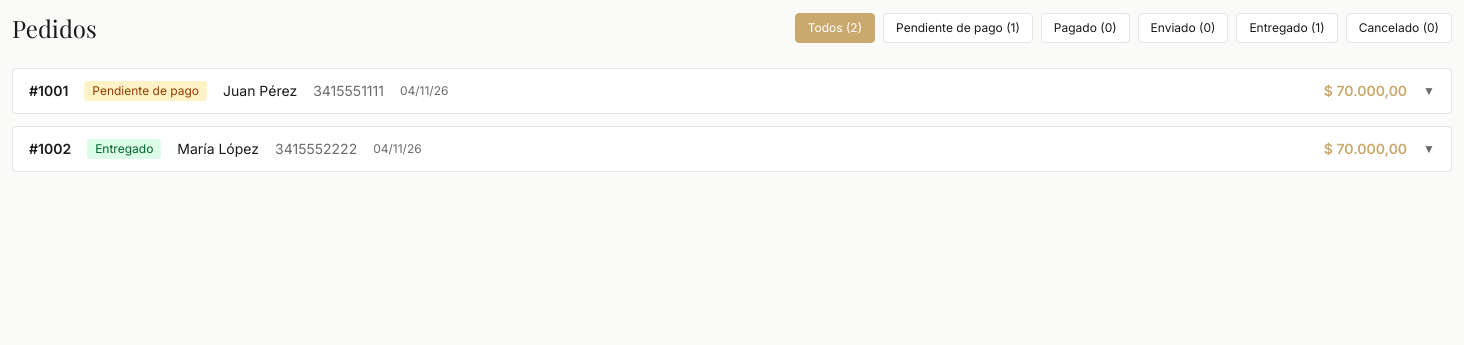
it: AdminOrders › muestra las acciones disponibles al expandir un pedido
Click the text "#1001": click(49, 91) [29,81,68,101]
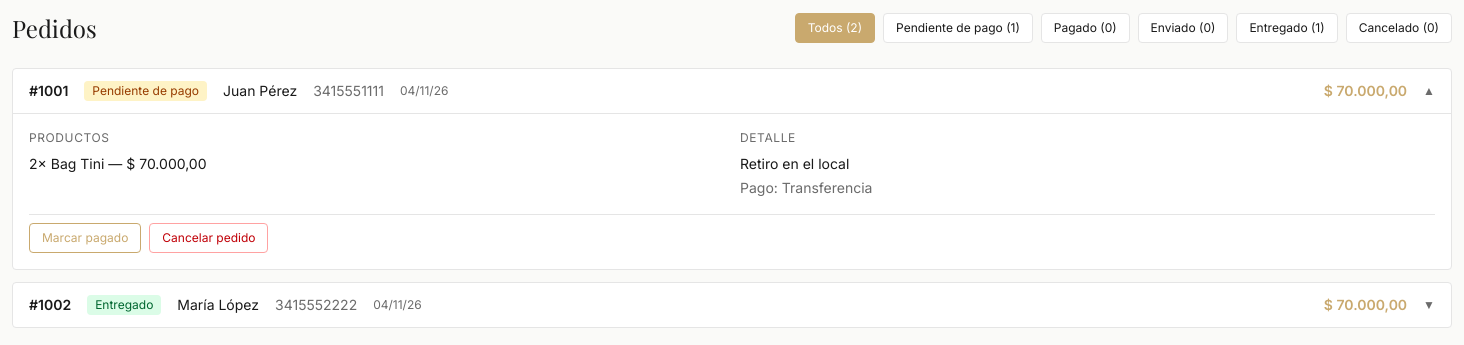
Expected: the list item "2× Bag Tini — $ 70.000,00" is shown, [29,155,206,172]
Expected: the button "Marcar pagado" is shown, [29,223,141,253]
Expected: the button "Cancelar pedido" is shown, [149,223,268,253]
